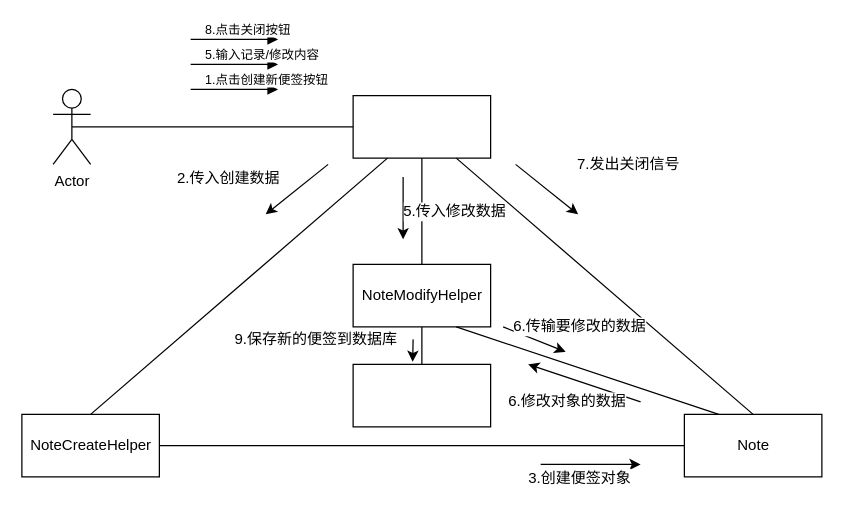
This 844x508 diagram has some shape labels left out. The centre of each missing label's shape, as x and y in pixels:
DatebaseHelper: (x=421, y=395)
NoteUI: (x=421, y=126)
